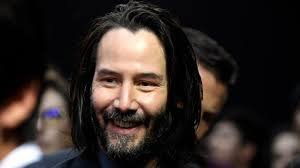noMask: (81, 4, 183, 157)
